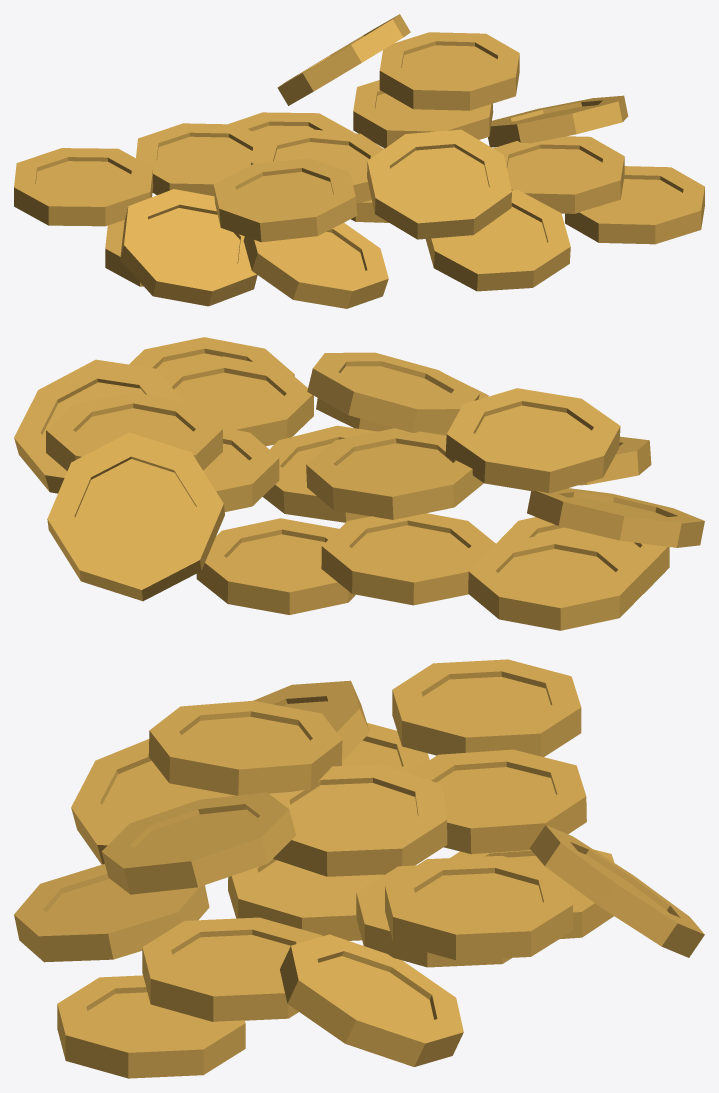
File: Coins2.fbx
3 renders of one model, top to bottom at view 1: azimuth 30°, elevation 25°; view 2: azimuth 150°, elevation 25°; view 3: azimuth 270°, elevation 25°, orthographic. The views are drawn at different scales.
Visible parts, largest first — view 1: mountain of coins S; view 2: mountain of coins S; view 3: mountain of coins S.
Part boxes in pixels (x1,y1,x2,y2): mountain of coins S: [14, 14, 704, 308]; mountain of coins S: [14, 337, 704, 630]; mountain of coins S: [14, 659, 704, 1078].
Bounding box in the file's own units: 0.3225 × 0.0601 × 0.2625.
